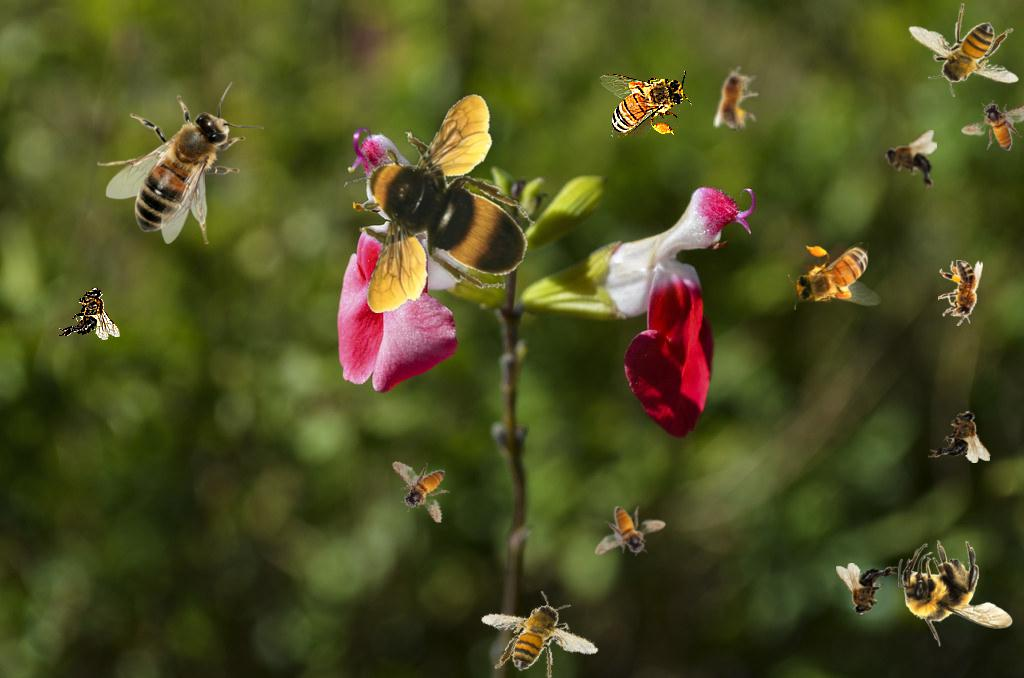Bee: (344, 93, 535, 313), (97, 82, 264, 244), (898, 540, 1013, 647), (477, 583, 604, 678), (908, 3, 1019, 97), (599, 70, 692, 138), (788, 242, 881, 310), (390, 449, 458, 532), (928, 407, 993, 465), (595, 506, 666, 556), (960, 98, 1024, 153), (712, 63, 762, 132), (58, 287, 120, 340), (836, 563, 898, 616), (884, 130, 937, 192), (938, 260, 983, 326)
